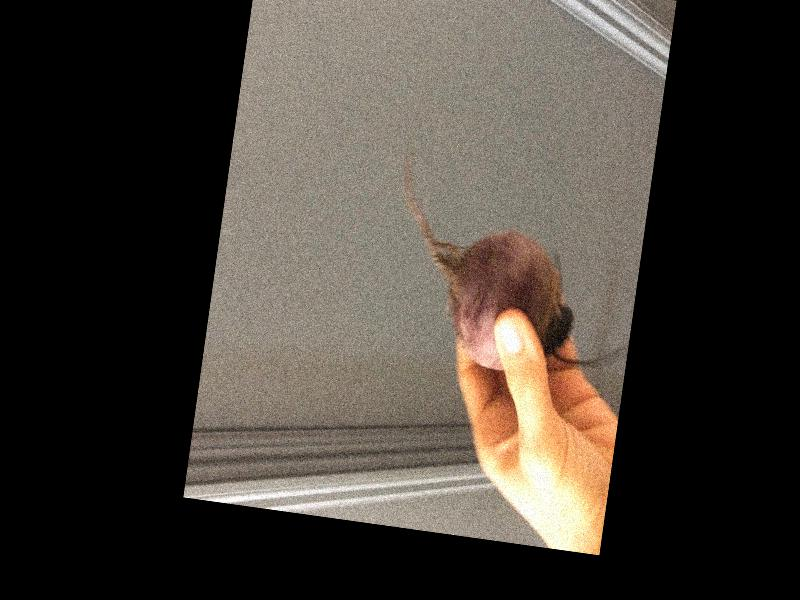Beet: (378, 145, 652, 386)
